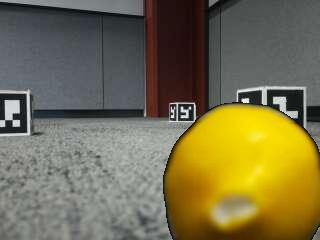lemon: (165, 102, 320, 240)
